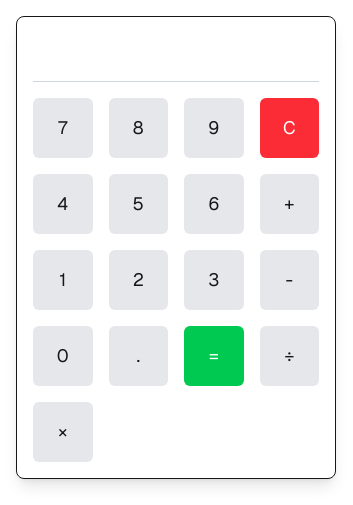
Home Page › can click operator buttons and update input
Click the button "7" at [63, 128], box x1=33 y1=98 x2=92 y2=158
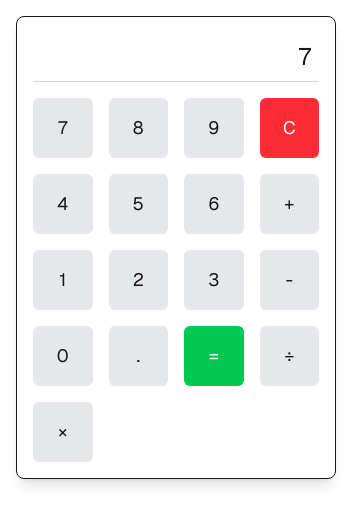
Click the button "+" at [289, 204], box x1=260 y1=174 x2=319 y2=234
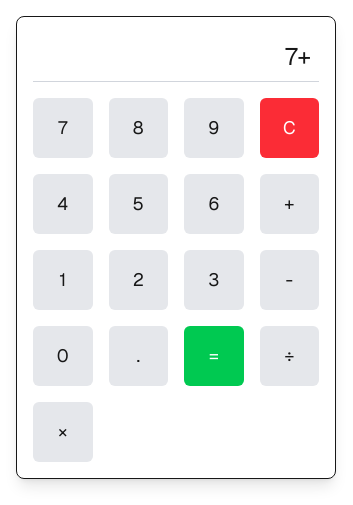
Click the button "3" at [214, 280], box x1=184 y1=250 x2=244 y2=310
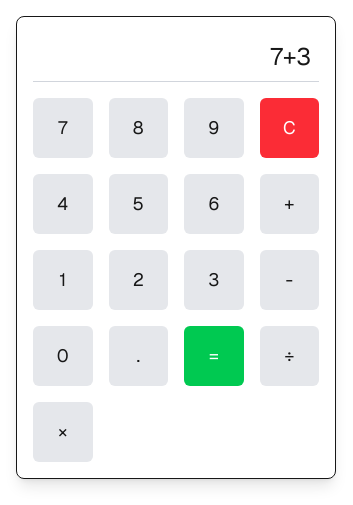
Expected: the field holds "7+3", x1=33 y1=33 x2=319 y2=82
